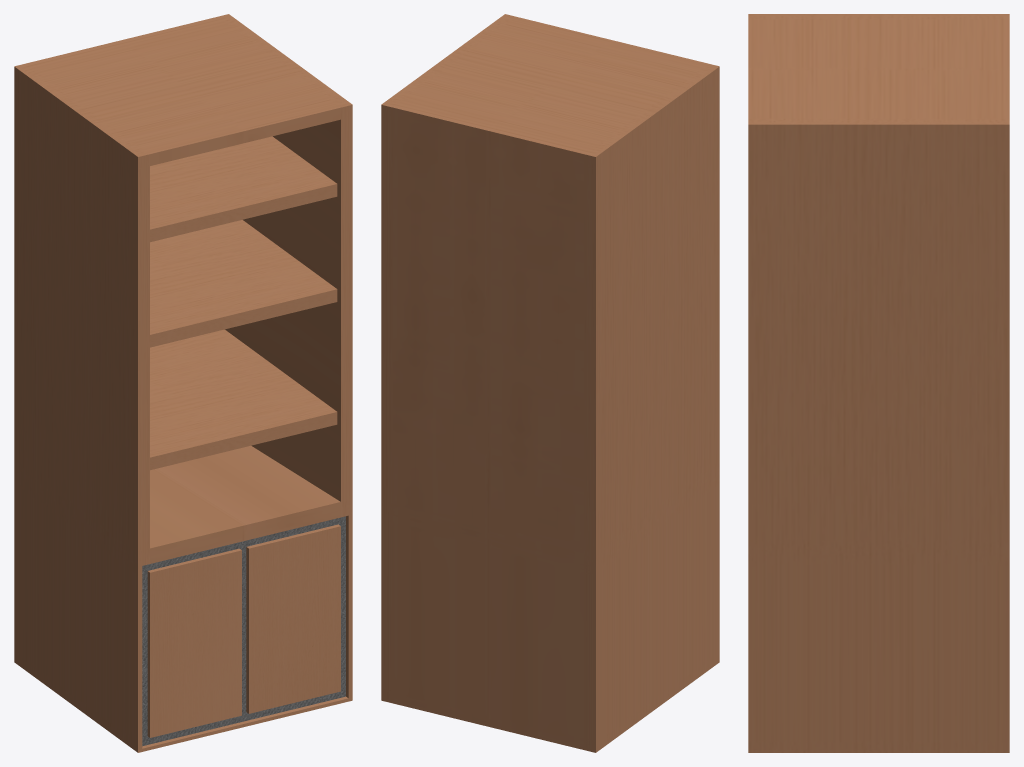
The model's file is BookcaseV1.gltf.
3 renders of one model, left to right at view 1: azimuth 30°, elevation 25°; view 2: azimuth 150°, elevation 25°; view 3: azimuth 270°, elevation 25°, orthographic. The views are drawn at different scales.
Visible parts, largest first — view 1: Cube, Cube.001, Cube.002, Cube.003; view 2: Cube; view 3: Cube.
Part boxes in pixels (<box>): Cube: <box>14,14,352,752</box>; Cube.001: <box>150,329,337,470</box>; Cube.002: <box>150,220,337,347</box>; Cube.003: <box>150,136,337,242</box>; Cube: <box>381,14,719,752</box>; Cube: <box>748,14,1009,752</box>.
Size of the model in its own units: 0.5 by 1.33 by 0.5.
Materials: 1 (1 with a texture image).
